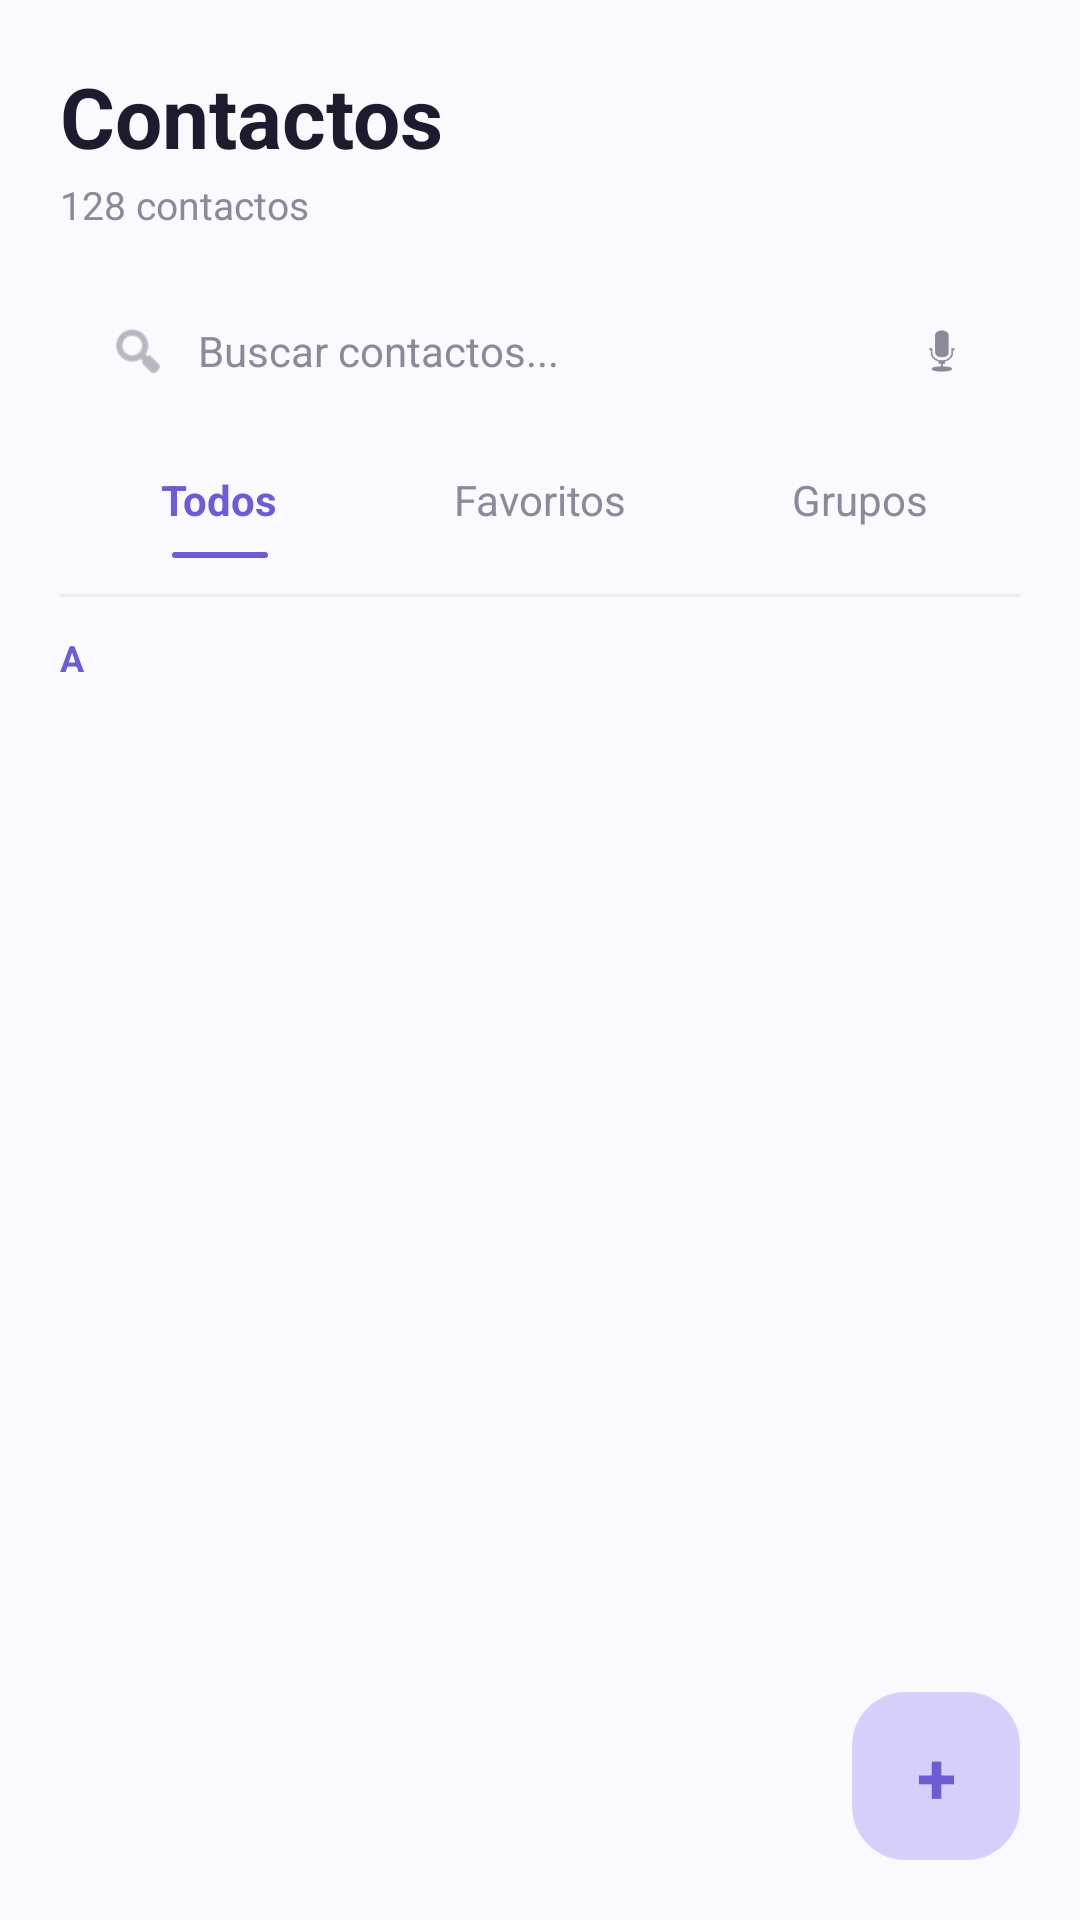

Screen size 1080x1920. Icon name, then its box in pixels as (x1, y1, x2, y2):
Búsqueda por voz: (929, 330, 955, 372)
